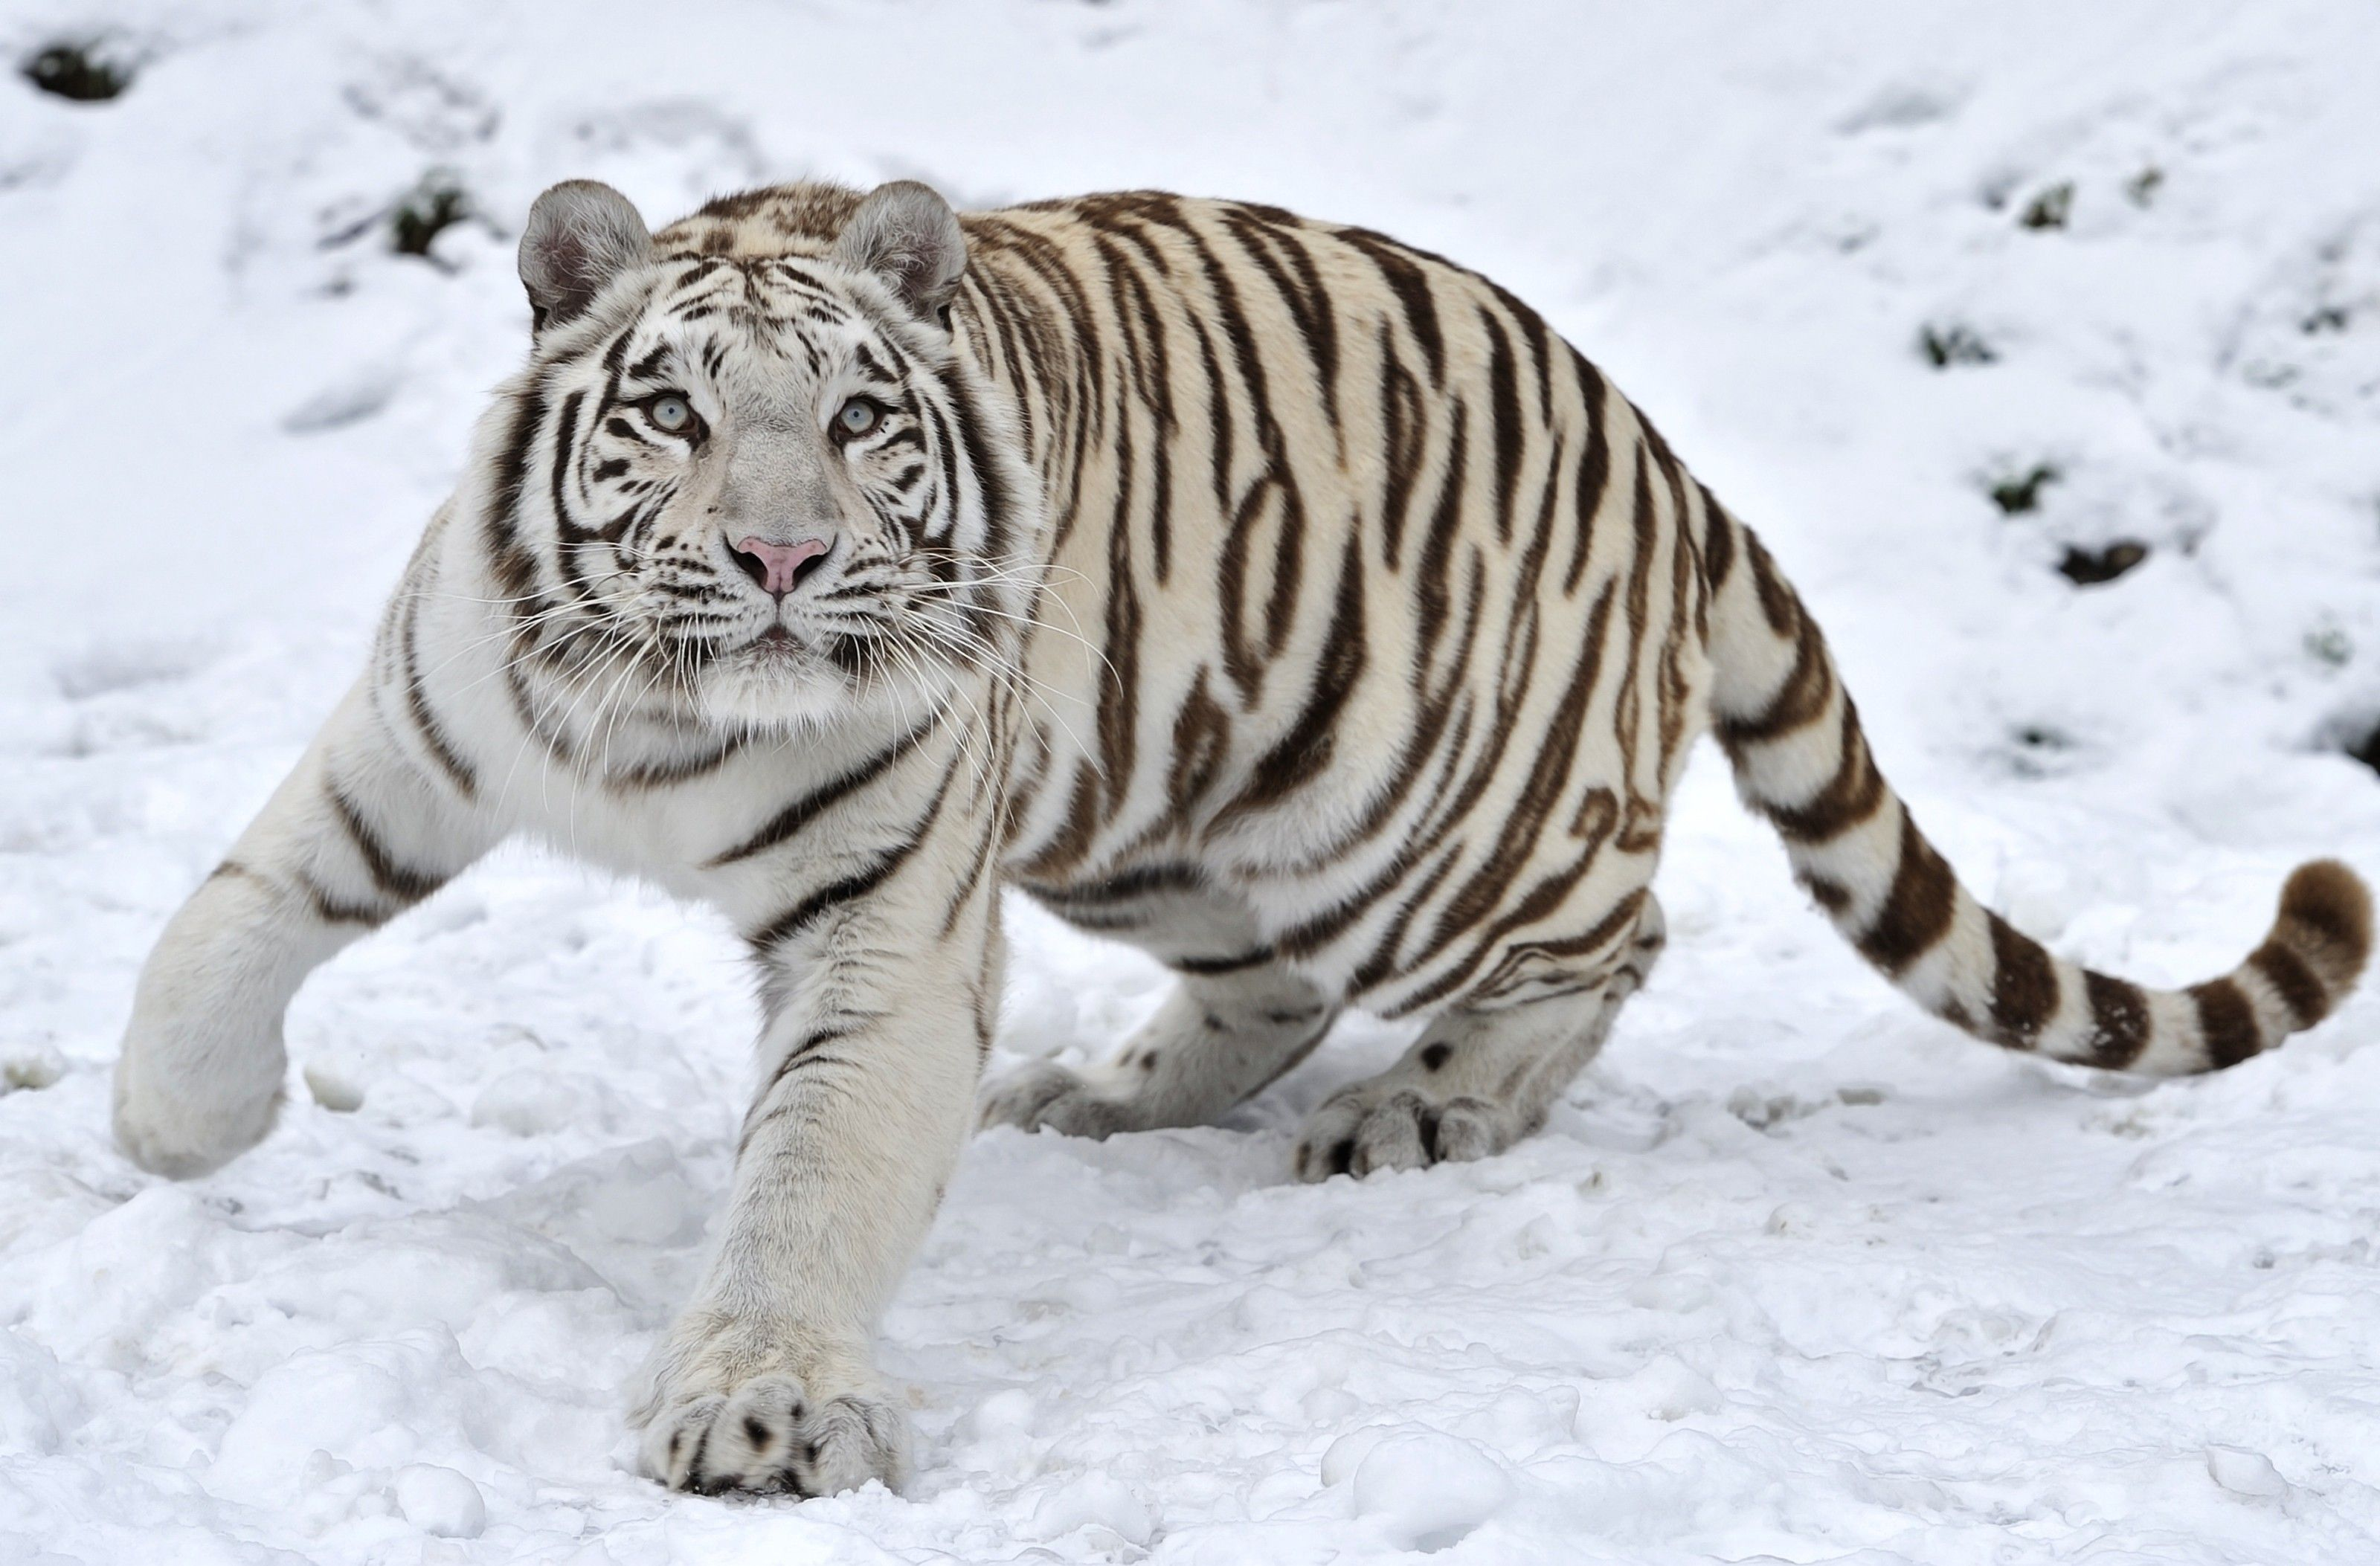Tigrew: (101, 59, 2335, 1542)
